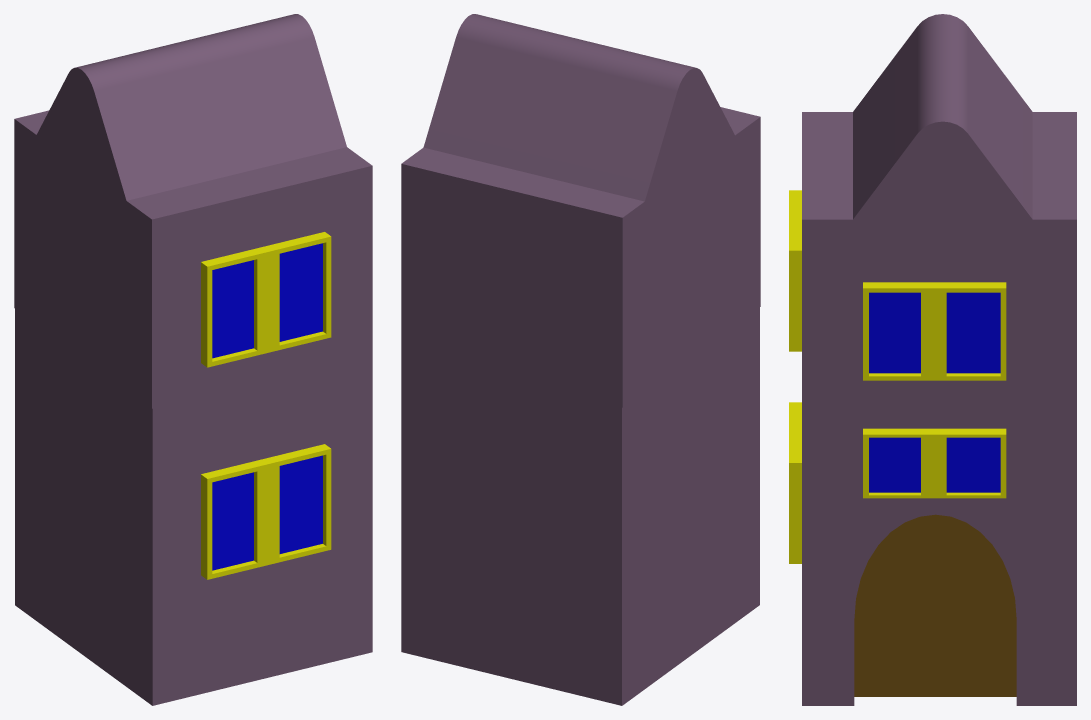
The picture shows the model from 3 angles, left to right: view 1: azimuth 30°, elevation 25°; view 2: azimuth 150°, elevation 25°; view 3: azimuth 270°, elevation 25°; orthographic projection.
Parts seen in each view (by area): view 1: polySurface28, pCube33, polySurface29, pCube34, pCube36; view 2: polySurface28, pCube33, polySurface29; view 3: polySurface28, pCube33, polySurface29, pCube38, pCube37, pCube34, pCube36.
Boxes of the visible parts, x1,y1,x2,y2 form: polySurface28: (15, 309, 372, 705); pCube33: (14, 110, 372, 408); polySurface29: (36, 14, 346, 200); pCube34: (201, 444, 331, 579); pCube36: (201, 232, 331, 367); polySurface28: (401, 307, 759, 705); pCube33: (401, 107, 760, 407); polySurface29: (423, 14, 734, 201); polySurface28: (802, 409, 1076, 705); pCube33: (802, 112, 1076, 408); polySurface29: (853, 14, 1032, 219); pCube38: (863, 282, 1006, 380); pCube37: (863, 428, 1006, 498); pCube34: (789, 402, 801, 563); pCube36: (789, 190, 801, 351).
Size of the model in its own units: 1053 by 2524 by 1127.
